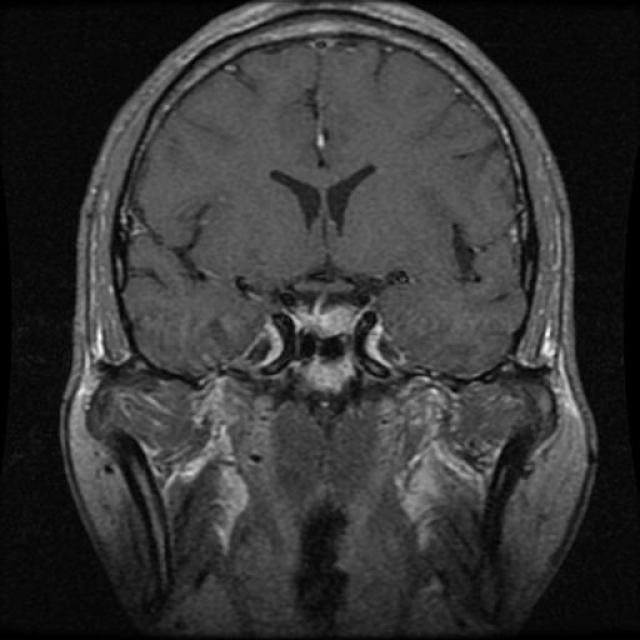pituitary: (239, 286, 399, 386)
